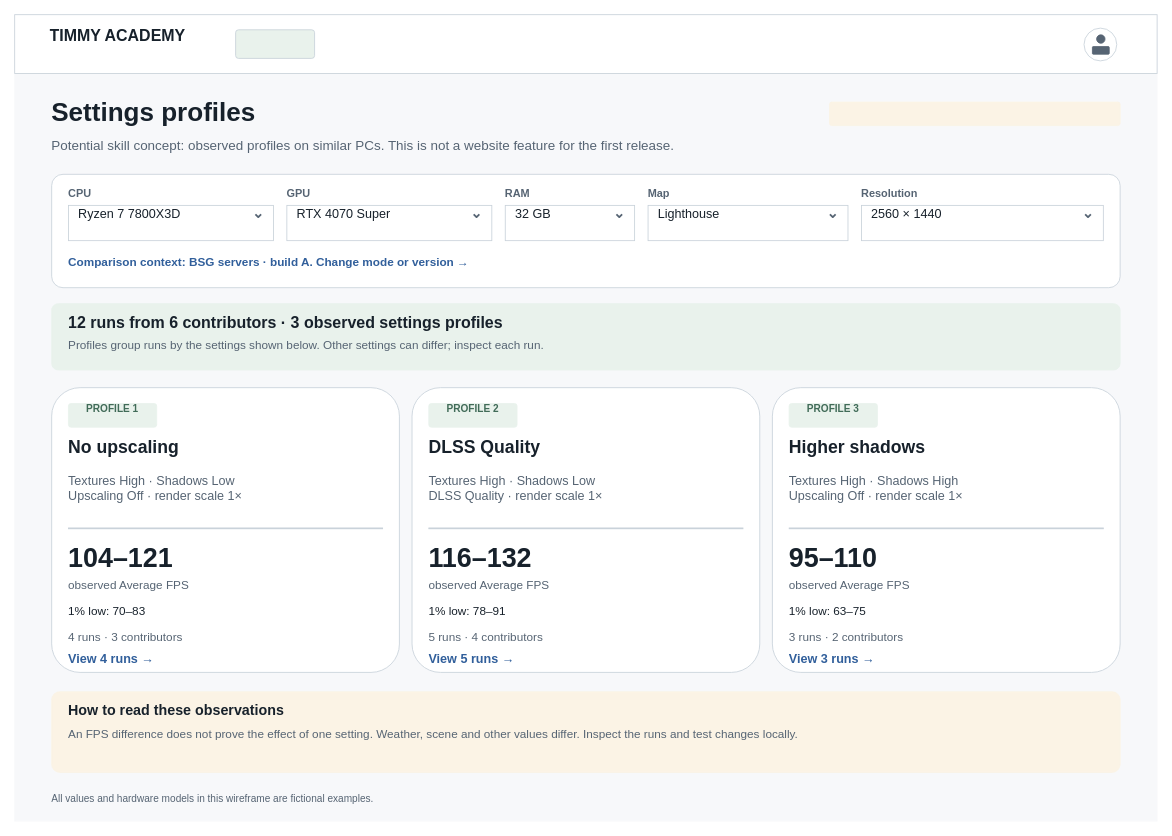
The diagram is 1172 pixels wide and 836 high, and some of its shapes have lost their labels. Each missing label, with the centre of its shape:
"BENCH" belongs at point 275,43.
"EXPLORATORY · OUT OF SCOPE" belongs at point 974,113.
